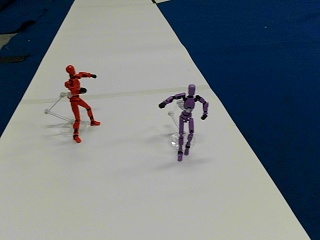pedestrian: (158, 84, 209, 158), (64, 62, 98, 140)
